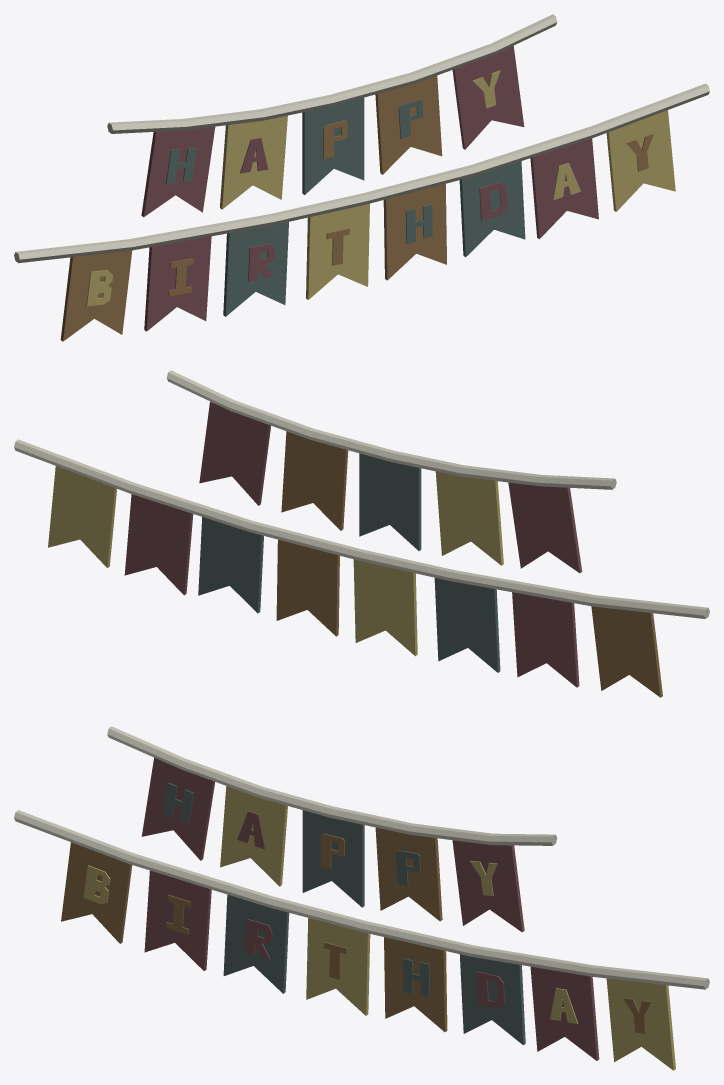
Rendered from BirthdayBanner.fbx.
3 views of the same model, one above another, from view 1: azimuth 30°, elevation 25°; view 2: azimuth 150°, elevation 25°; view 3: azimuth 330°, elevation 25° (orthographic).
Visible parts, largest first — view 1: BirthdayBanner; view 2: BirthdayBanner; view 3: BirthdayBanner.
Boxes of the visible parts, x1,y1,x2,y2 form: BirthdayBanner: (14,14,709,341); BirthdayBanner: (14,370,709,697); BirthdayBanner: (14,726,709,1070).
Bounding box in the file's own units: 456 × 142 × 6.73.
